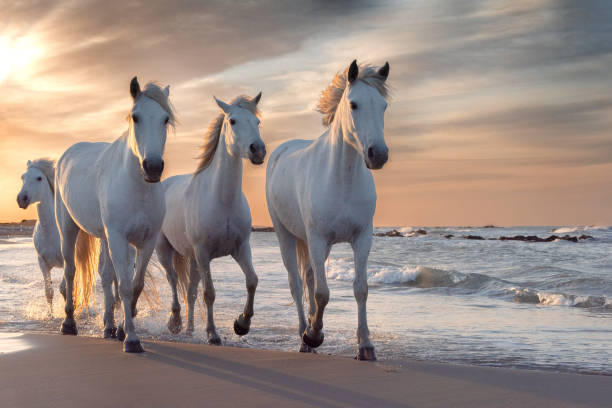Horse: (270, 55, 404, 378), (51, 76, 180, 354), (166, 87, 271, 350), (12, 152, 84, 307)
